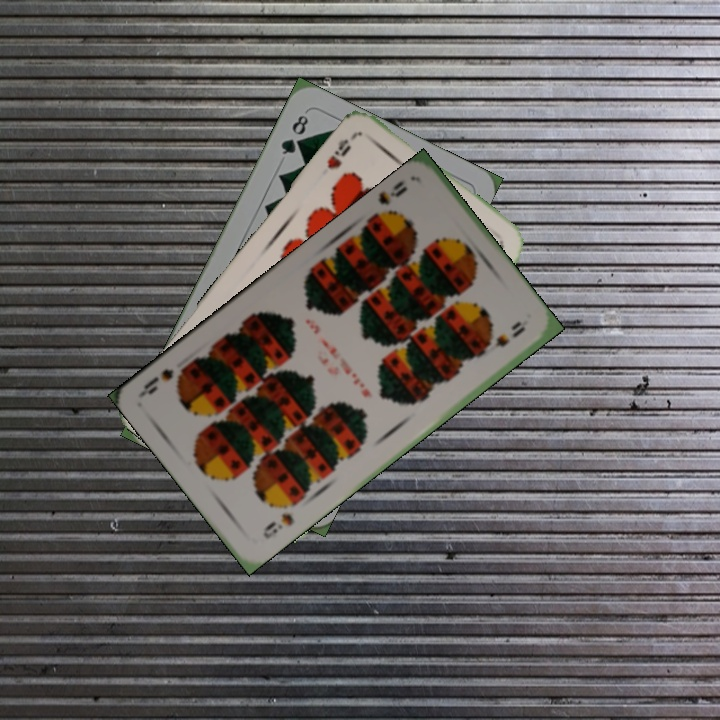G8: (277, 110, 311, 158)
H9: (323, 129, 359, 172)
S9: (258, 509, 297, 542), (374, 176, 410, 208)
